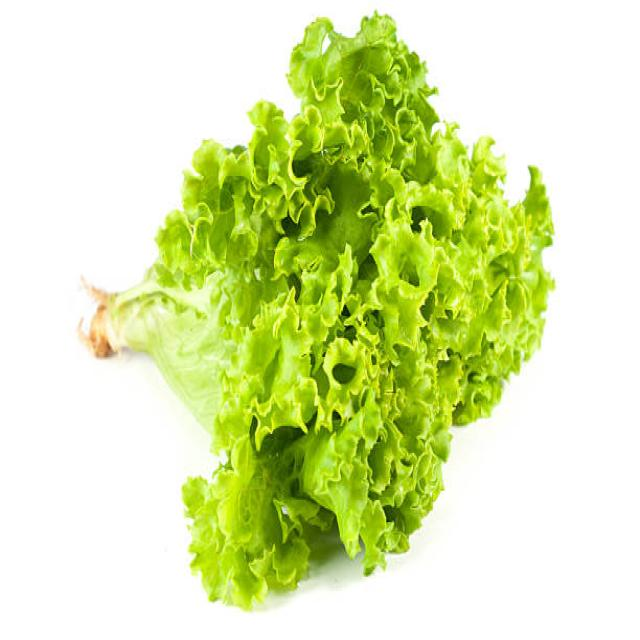Wet Waste: (144, 5, 557, 610)
